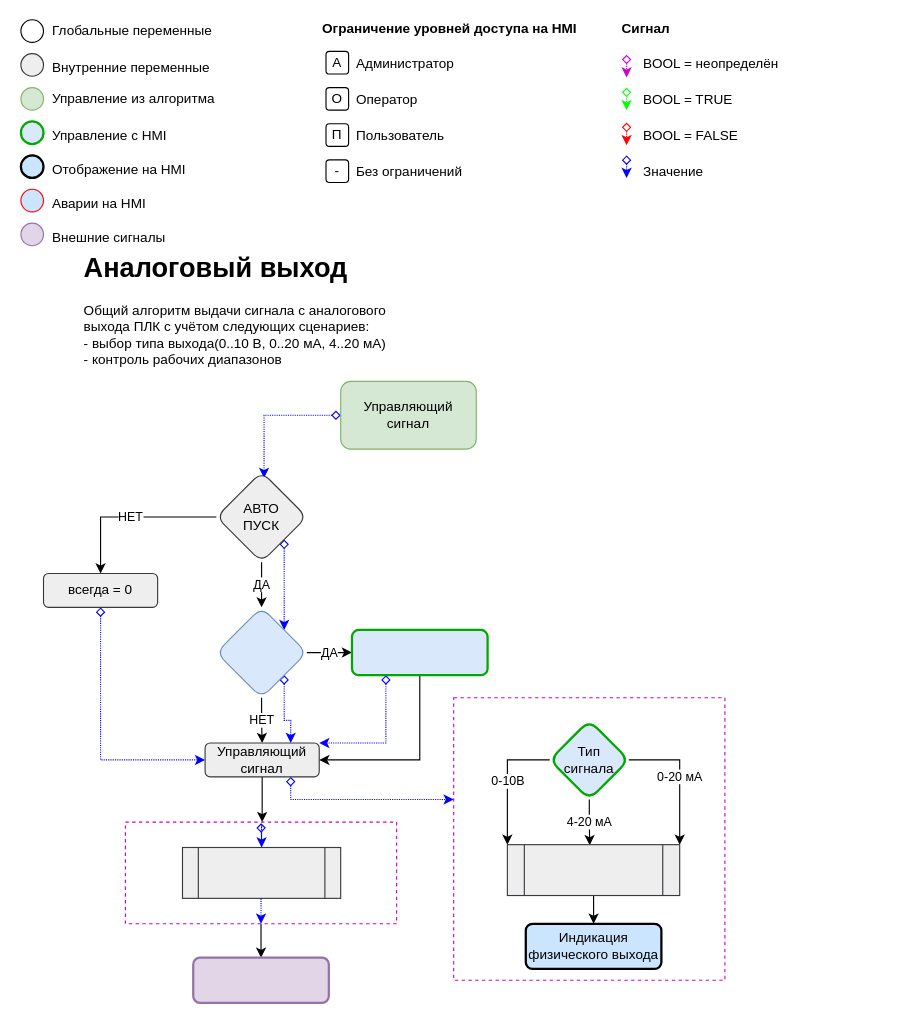
Some shapes in this 904 by 1024 pixel diagram are drawn without their labels. The shapes that lost their labels are listed below. From the top down, each one's centre as x and y in pixels, then its label:
At point (261, 652): "РУЧНОЙ РЕЖИМ".
At point (419, 652): "Заданный сигнал".
At point (261, 872): "Масштабирование drv_Converter".
At point (593, 870): "Масштбаирование drv_Scale".
At point (260, 979): "Выходной сигнал".
